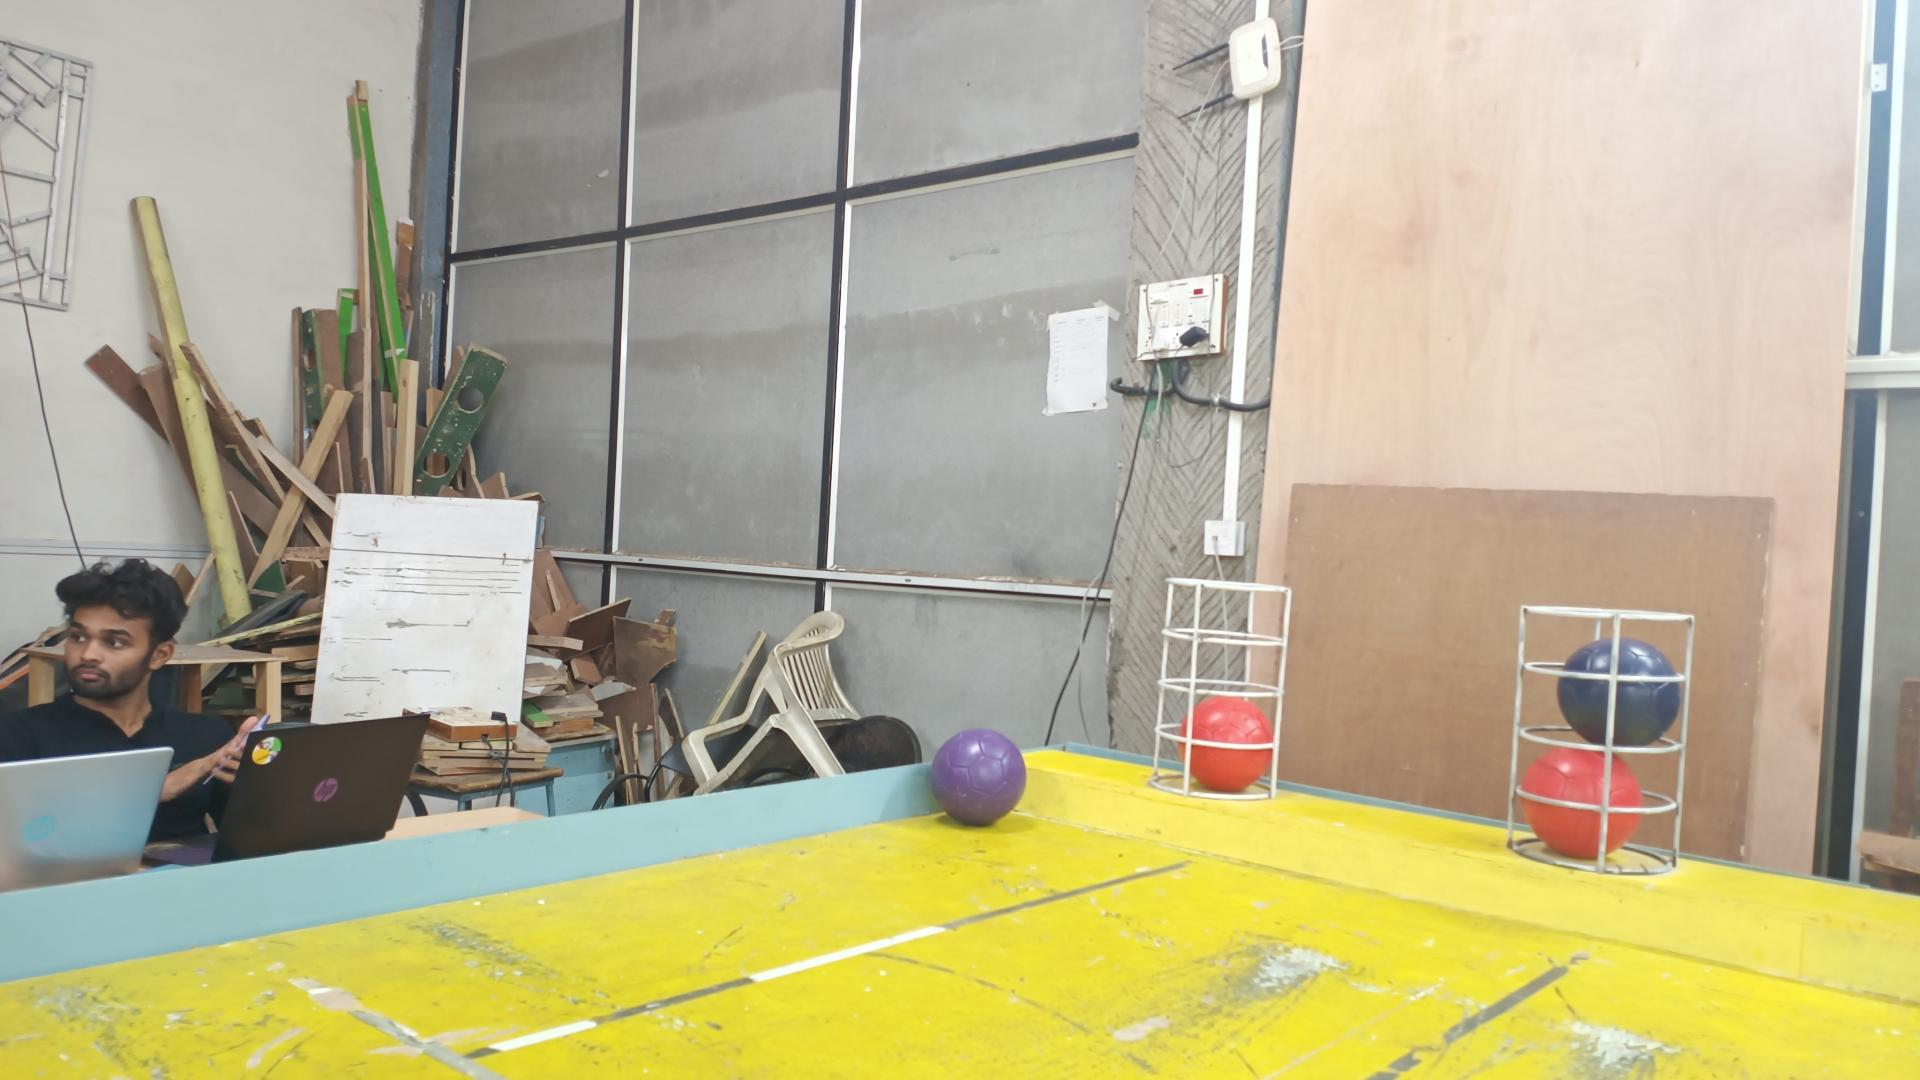dhoka: (1556, 637, 1680, 746)
laale: (1519, 746, 1643, 858), (1178, 698, 1275, 791)
